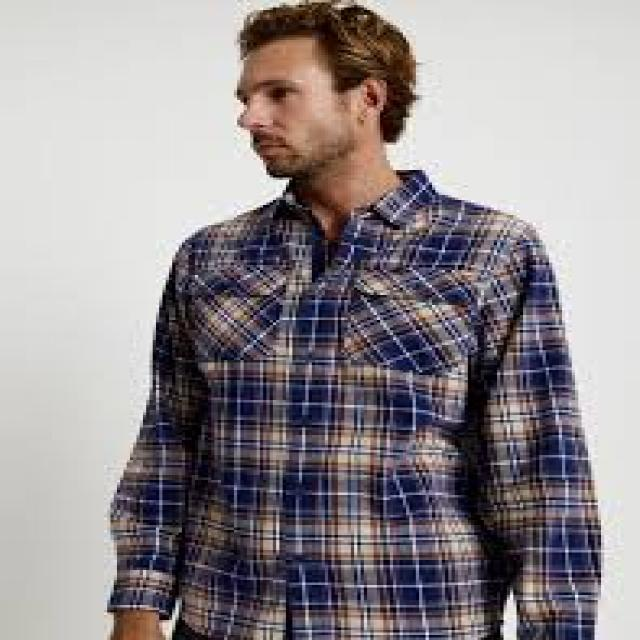plaid: (101, 203, 602, 640)
